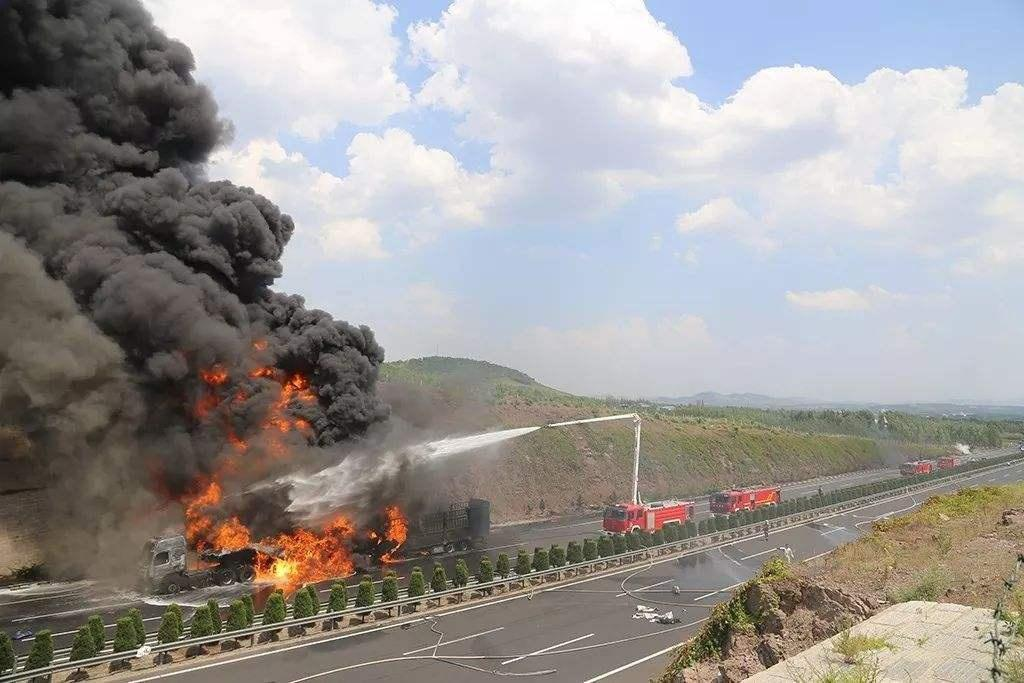fire: (205, 338, 317, 455), (252, 518, 360, 594), (177, 477, 251, 563), (371, 499, 410, 563)
